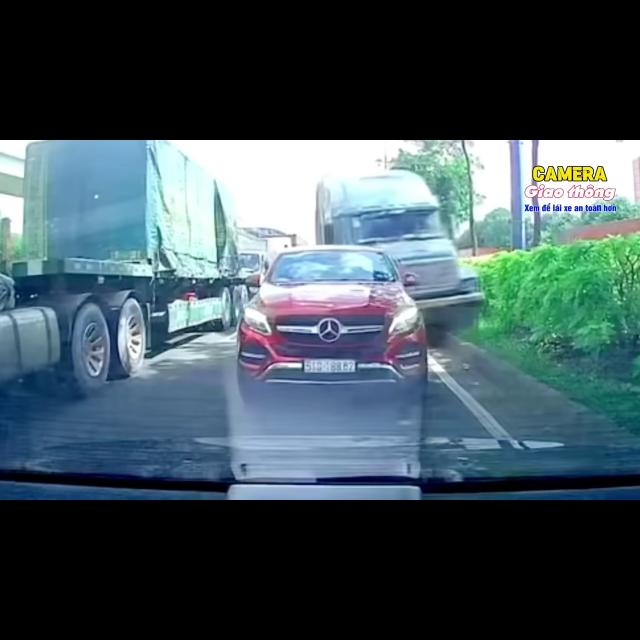car: (237, 245, 428, 397)
truck: (0, 140, 247, 397), (315, 170, 483, 345), (239, 229, 267, 278), (239, 229, 267, 275)
